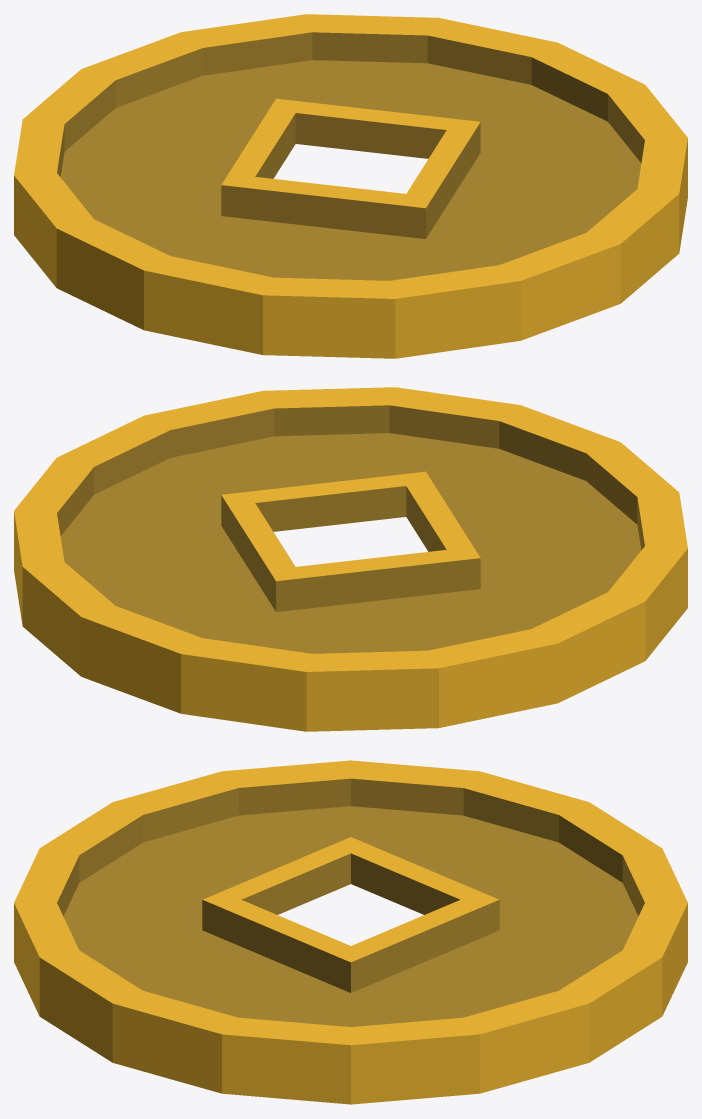
The model's file is Coin_Square_Hollow.fbx.
3 renders of one model, top to bottom at view 1: azimuth 30°, elevation 25°; view 2: azimuth 150°, elevation 25°; view 3: azimuth 270°, elevation 25°, orthographic.
Parts seen in each view (by area): view 1: Coin_Square_Hollow; view 2: Coin_Square_Hollow; view 3: Coin_Square_Hollow.
Part boxes in pixels (bbox=[...]): Coin_Square_Hollow: bbox=[14, 14, 687, 358]; Coin_Square_Hollow: bbox=[14, 387, 687, 731]; Coin_Square_Hollow: bbox=[14, 760, 687, 1104].
Size of the model in its own units: 20 by 20 by 2.04.
